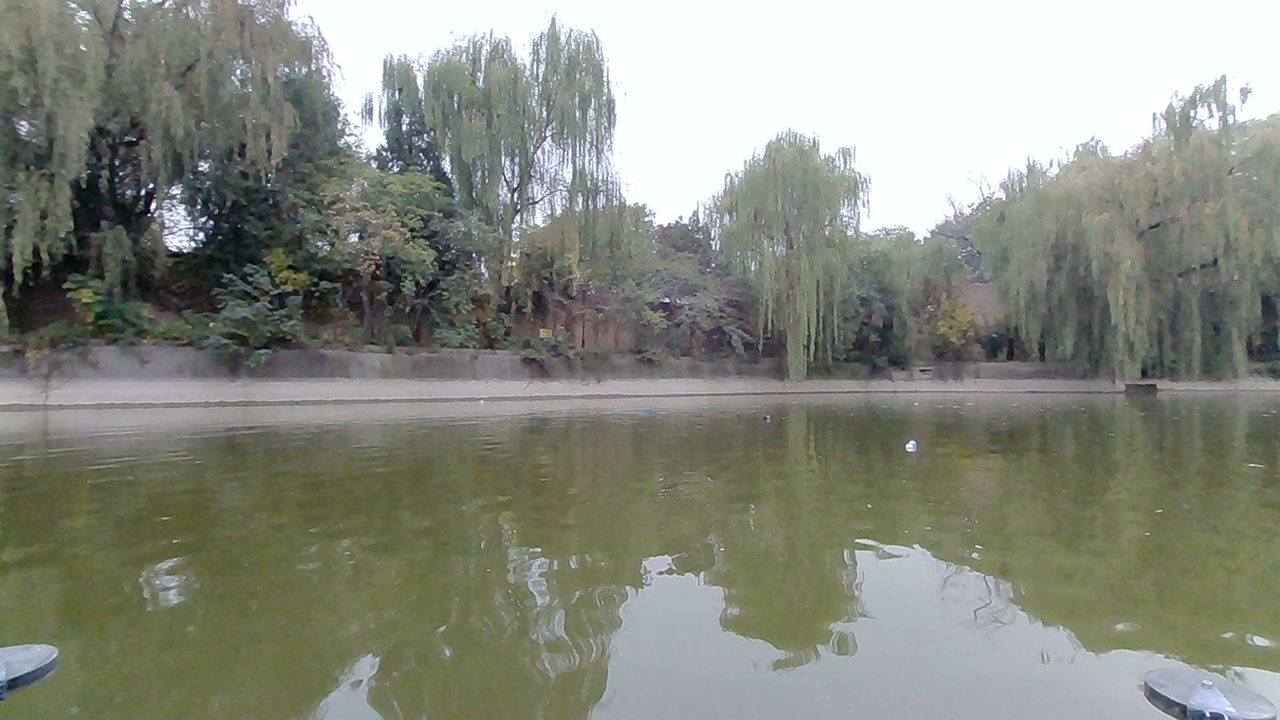bottle: (890, 428, 929, 457), (751, 404, 779, 430)
